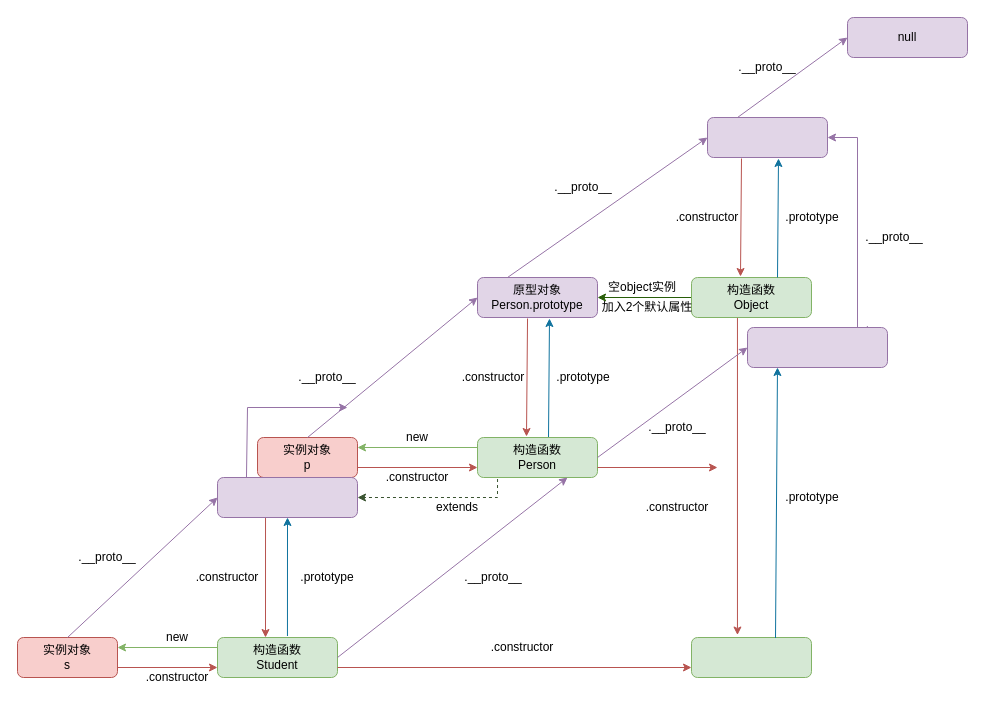
This 985x705 diagram has some shape labels left out. The centre of each missing label's shape, as x and y in pixels:
原型对象 Function.prototype: [817,347]
原型对象 Object.prototype: [767,137]
原型对象 Student.prototype: [287,497]
构造函数 Function: [751,657]
